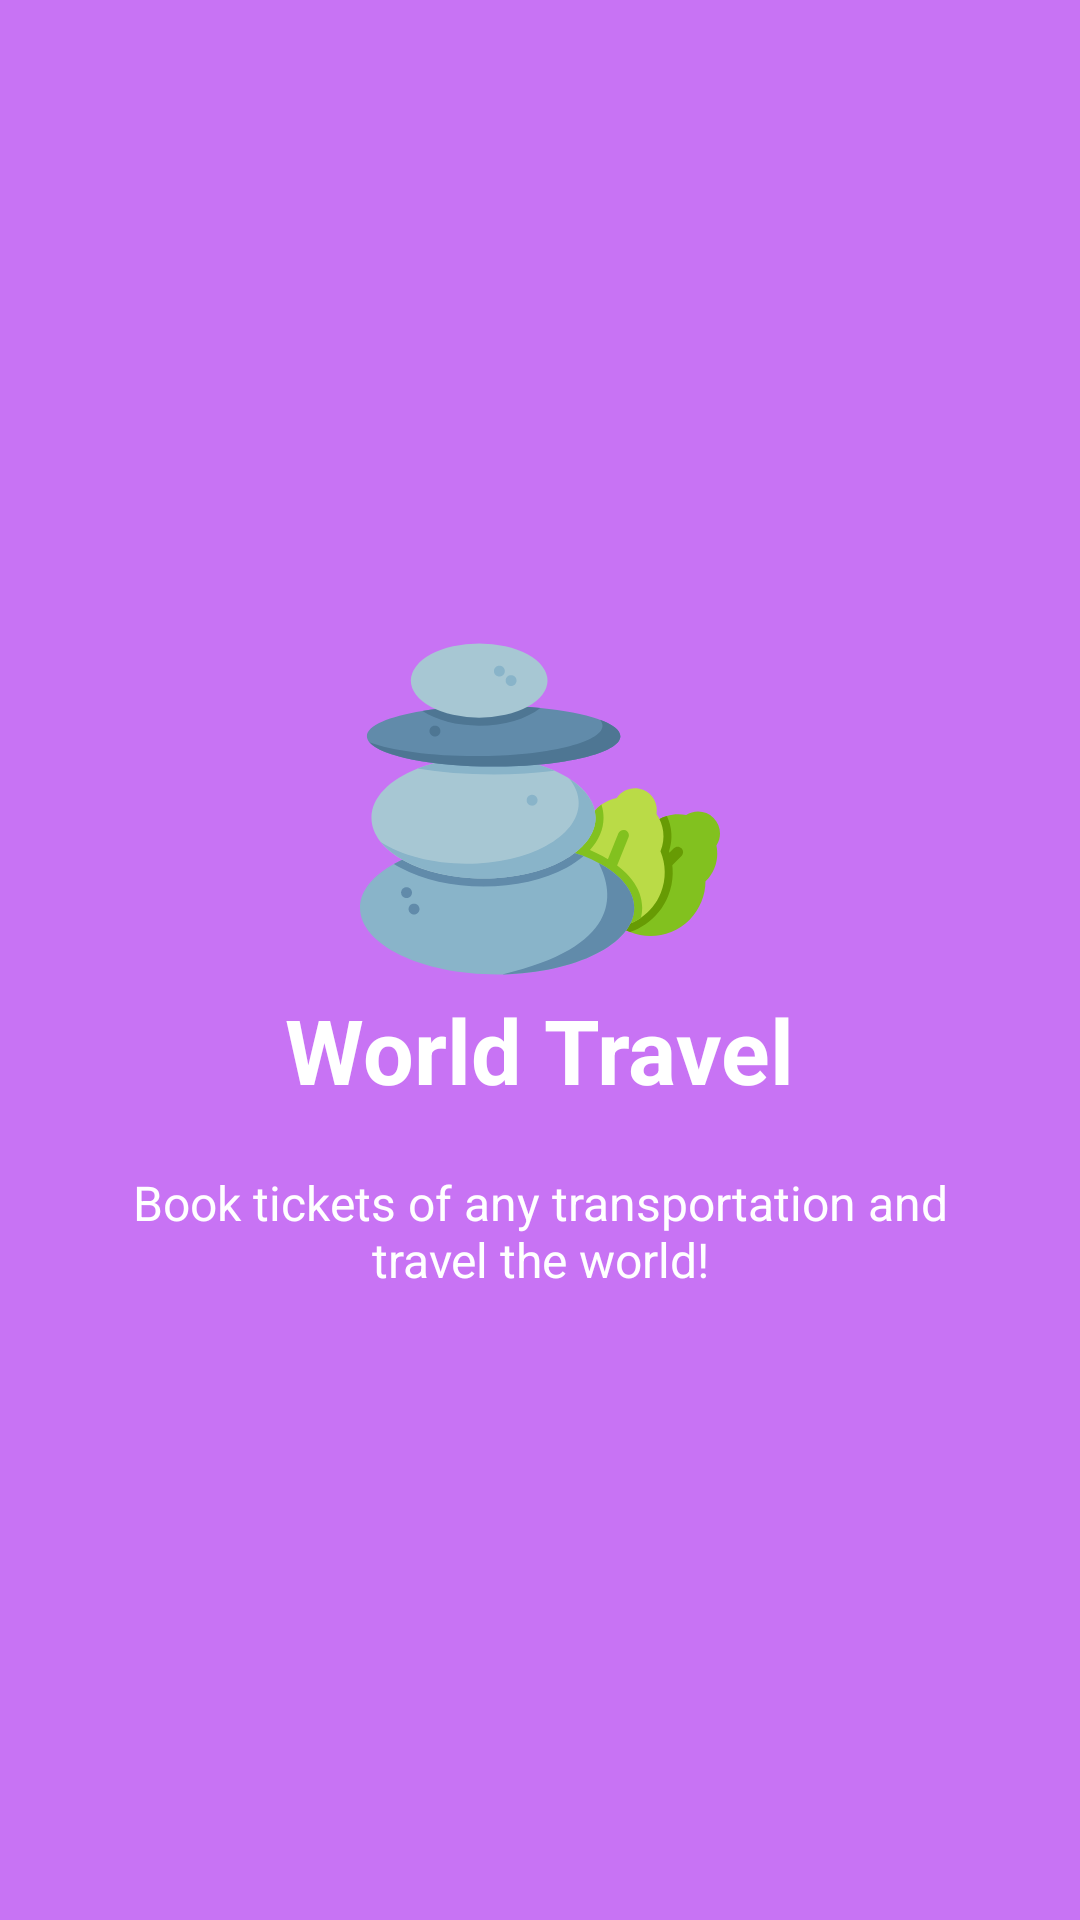

Named icons in this screenshot (1080w x 1920h) and their bounding boxes, [x1,y1,x2,y2]:
zen stone: [360,643,720,975]
